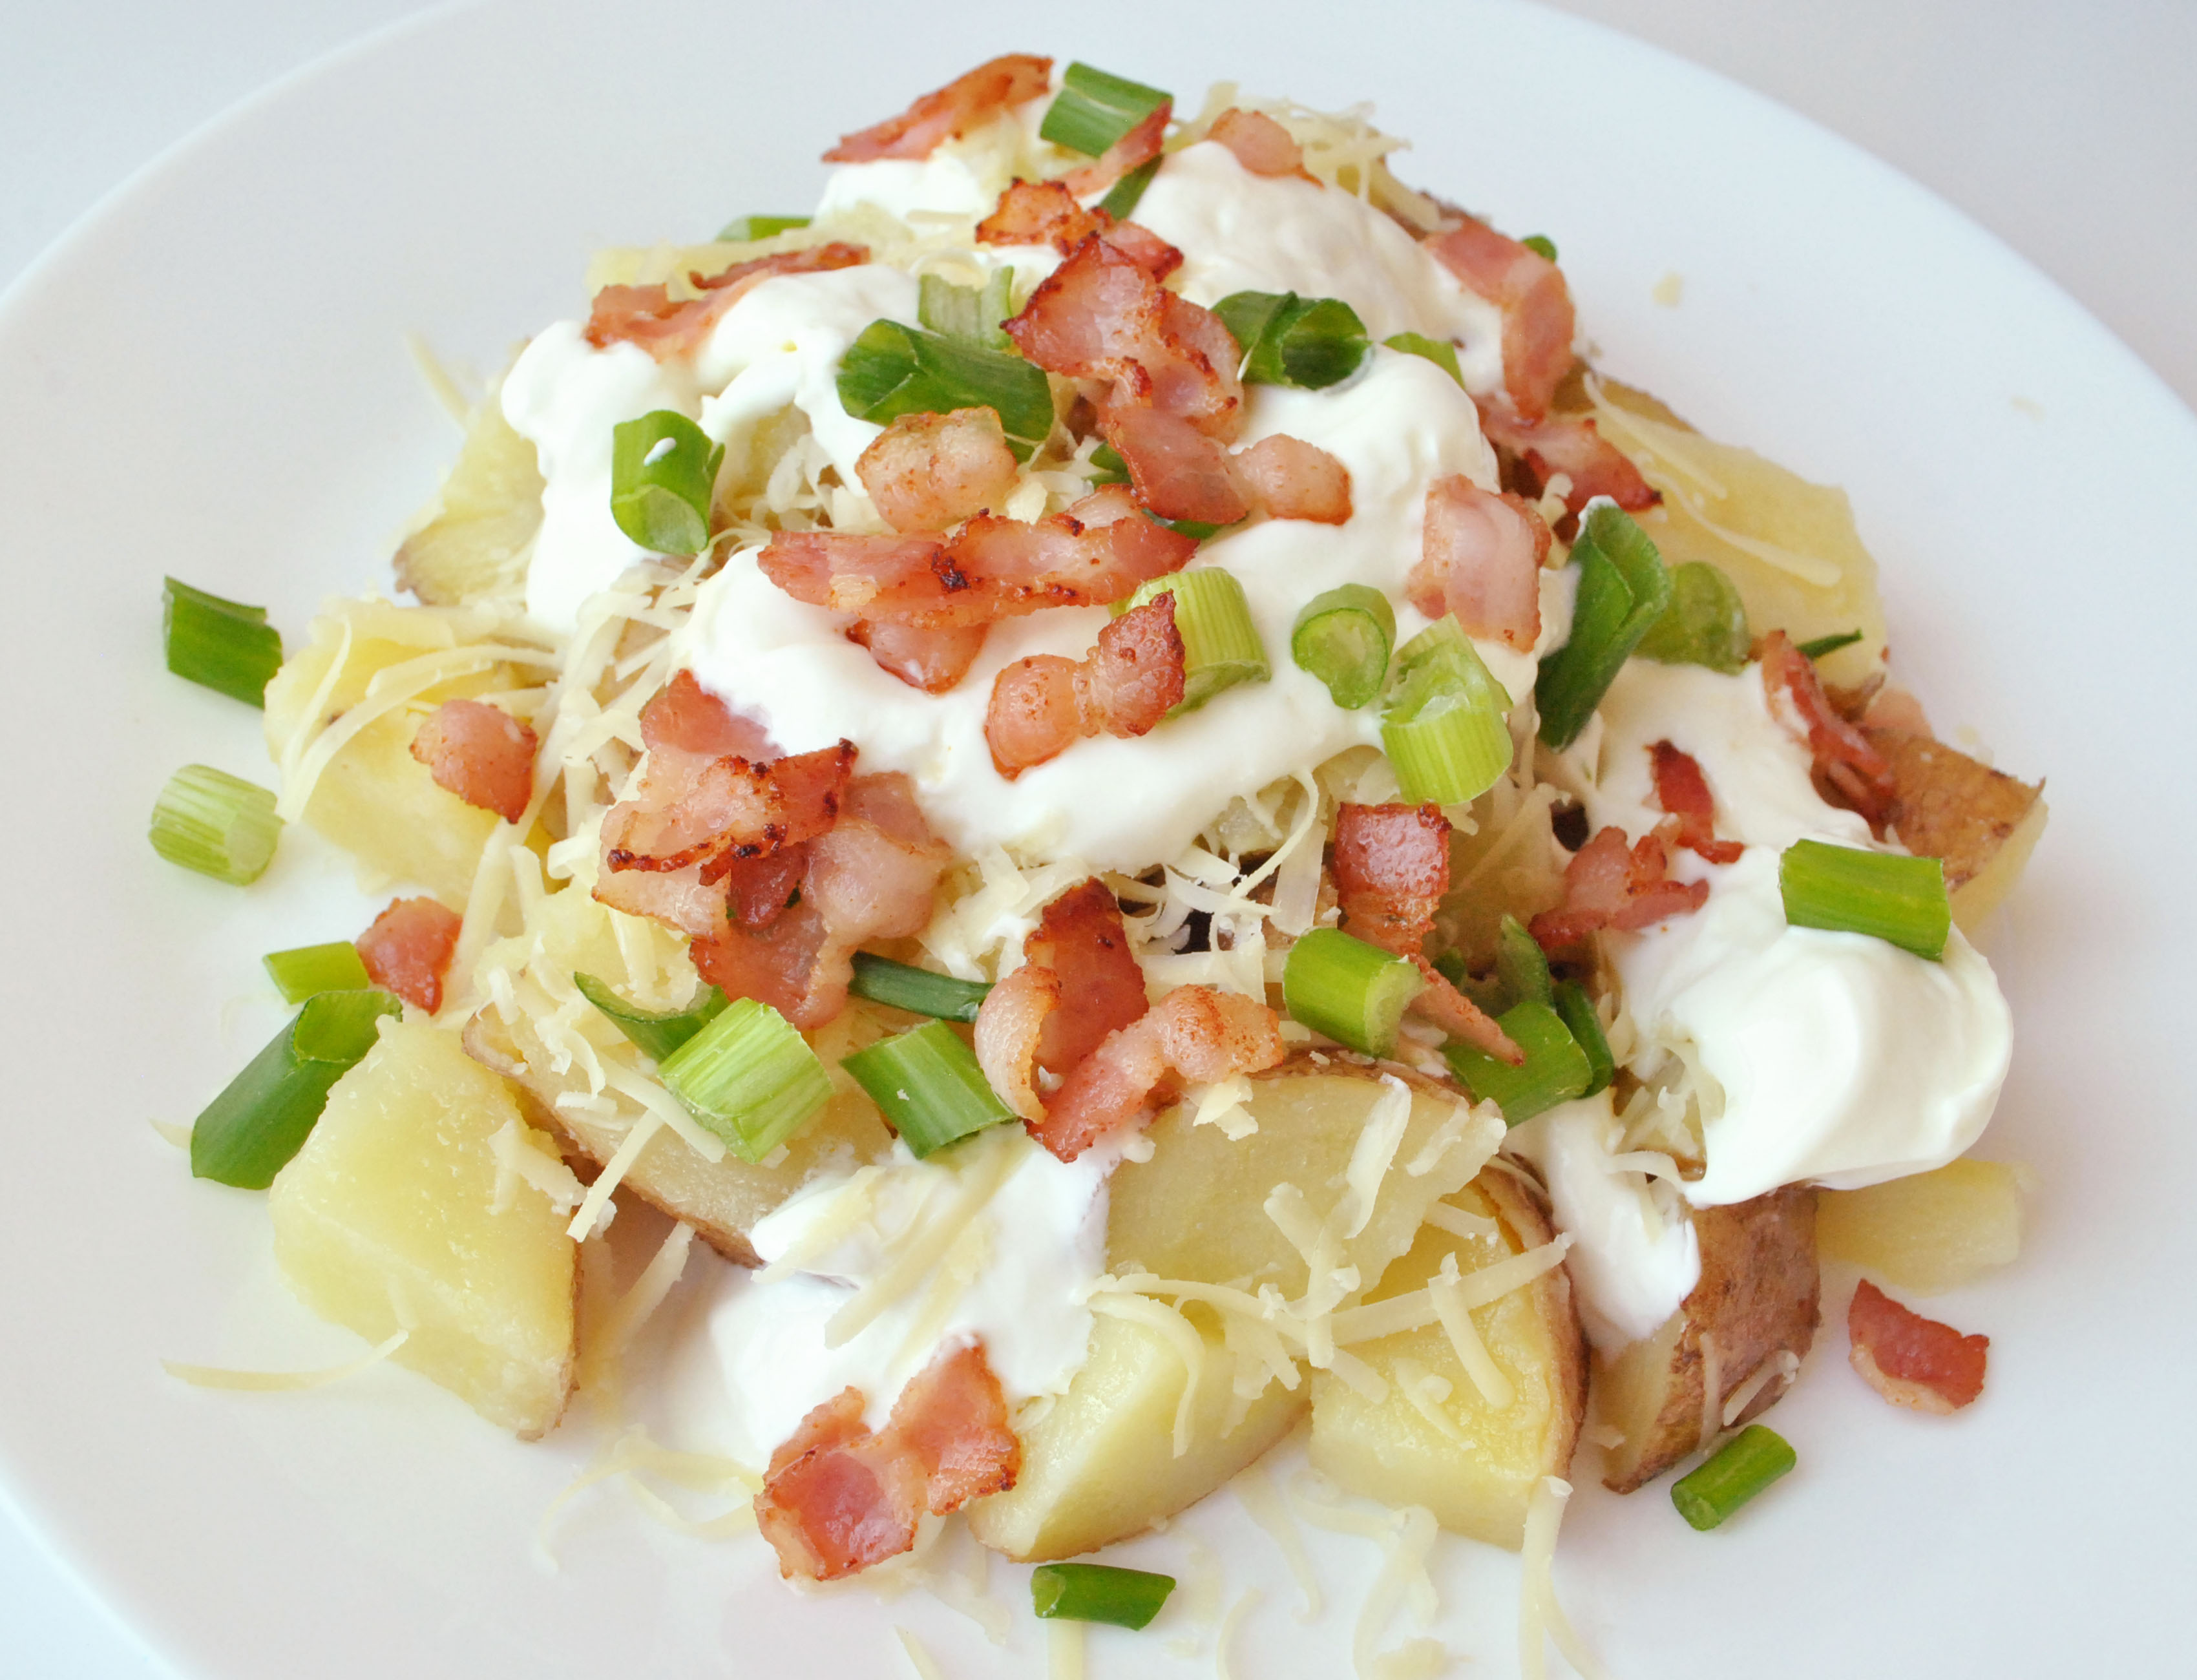boiled potatoes: (1136, 1057, 1581, 1537), (259, 1061, 570, 1451), (1611, 429, 1902, 713), (304, 626, 604, 866), (1821, 775, 2073, 911)
